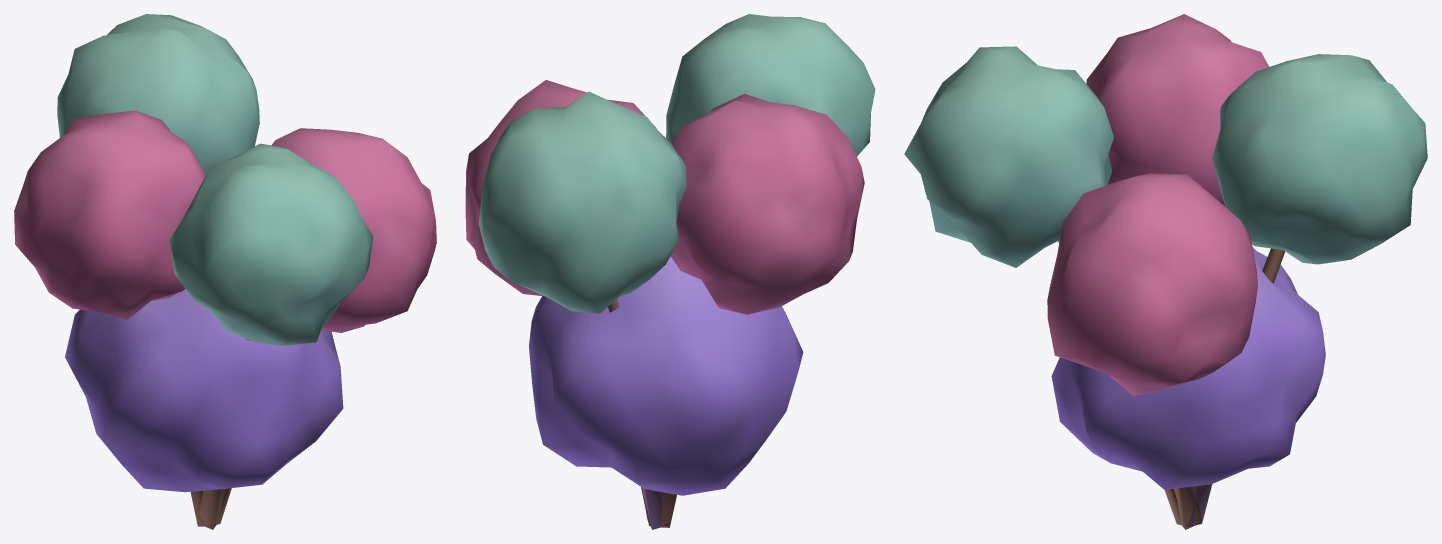
The model's file is verdant_bush_puffball.glb.
3 renders of one model, left to right at view 1: azimuth 30°, elevation 25°; view 2: azimuth 150°, elevation 25°; view 3: azimuth 270°, elevation 25°, orthographic. The views are drawn at different scales.
Visible parts, largest first — view 1: verdant_bush_puffball; view 2: verdant_bush_puffball; view 3: verdant_bush_puffball.
Part boxes in pixels (left/top/right/bottom): verdant_bush_puffball: left=14, top=14, right=436, bottom=529; verdant_bush_puffball: left=465, top=14, right=875, bottom=529; verdant_bush_puffball: left=904, top=14, right=1427, bottom=529.
Bounding box in the file's own units: 1.39 × 1.56 × 1.57.
